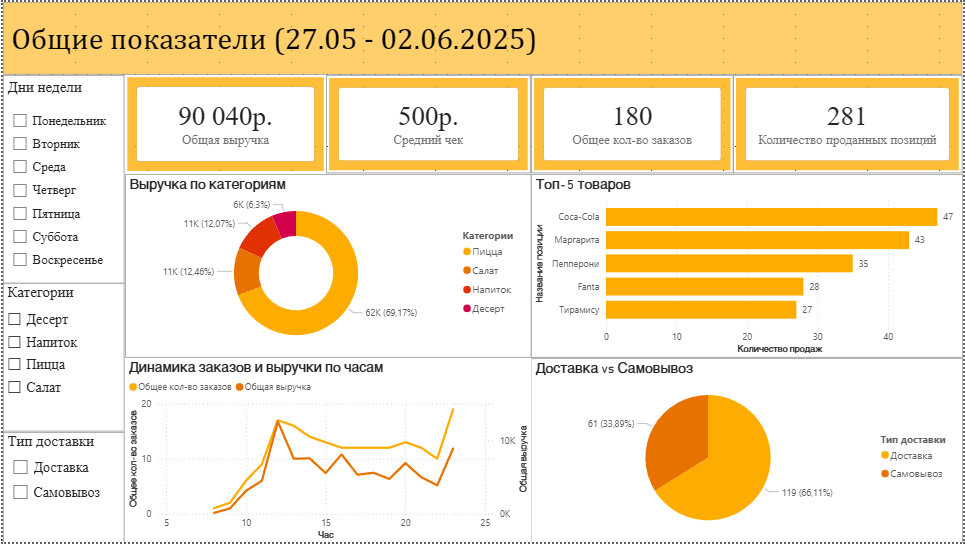

The page's visual inventory and layout, read from the dashboard file:
{"tool":"powerbi","page":{"name":"Общие показатели ","canvas":[1280,720],"ordinal":0},"visuals":[{"type":"cardVisual","fields":{"Data":["addresses.Общее кол-во заказов"]},"box":[704.5,97.5,270.3,131.4],"z":0},{"type":"cardVisual","fields":{"Data":["addresses.Общая выручка"]},"box":[162.5,97.5,268.8,131.4],"z":1000},{"type":"cardVisual","fields":{"Data":["addresses.Средний чек"]},"box":[431.3,97.5,273.2,131.4],"z":2000},{"type":"cardVisual","fields":{"Data":["addresses.Количество проданных позиций"]},"box":[973.3,97.5,305.7,131.4],"z":3000},{"type":"donutChart","title":"Выручка по категориям","fields":{"Y":["addresses.Общая выручка(для расчета)"],"Category":["items.item_cat"]},"box":[162.5,228.9,542,245.2],"z":4000},{"type":"clusteredBarChart","title":"Топ-5 товаров","fields":{"Category":["items.item_name"],"Y":["Sum(orders.quantity)"]},"box":[704.5,228.9,576,245.2],"z":5000},{"type":"pieChart","title":"Доставка vs Самовывоз","fields":{"Category":["orders.Тип доставки"],"Y":["addresses.Общее кол-во заказов"]},"box":[704.5,474.1,576,246.6],"z":6000},{"type":"shape","box":[0,0,1279,97.5],"z":7000},{"type":"listSlicer","title":"Категории ","fields":{"Values":["items.item_cat"]},"box":[0,375.1,162.5,197.9],"z":8000},{"type":"slicer","title":"Дни недели","fields":{"Values":["orders.День недели рус"]},"box":[0,97.5,162.5,277.7],"z":9000},{"type":"slicer","title":"Тип доставки","fields":{"Values":["orders.Тип доставки"]},"box":[0,573,162.5,147.7],"z":10000},{"type":"lineChart","title":"Динамика заказов и выручки по часам","fields":{"Category":["orders.Час"],"Y":["addresses.Общее кол-во заказов"],"Y2":["addresses.Общая выручка(для расчета)"]},"box":[162.5,474.1,542,246.6],"z":10001}]}

Visuals, with their boxes in screenshot pixels (x1, y1, x2, y2), scaled from the page's 1280x720 canvas onto the 965x544 screenshot:
cardVisual - addresses.Общее кол-во заказов: [left=531, top=74, right=735, bottom=173]
cardVisual - addresses.Общая выручка: [left=123, top=74, right=325, bottom=173]
cardVisual - addresses.Средний чек: [left=325, top=74, right=531, bottom=173]
cardVisual - addresses.Количество проданных позиций: [left=734, top=74, right=964, bottom=173]
"Выручка по категориям" donutChart: [left=123, top=173, right=531, bottom=358]
"Топ-5 товаров" clusteredBarChart: [left=531, top=173, right=964, bottom=358]
"Доставка vs Самовывоз" pieChart: [left=531, top=358, right=964, bottom=543]
shape: [left=0, top=0, right=964, bottom=74]
"Категории " listSlicer: [left=0, top=283, right=123, bottom=433]
"Дни недели" slicer: [left=0, top=74, right=123, bottom=283]
"Тип доставки" slicer: [left=0, top=433, right=123, bottom=543]
"Динамика заказов и выручки по часам" lineChart: [left=123, top=358, right=531, bottom=543]
